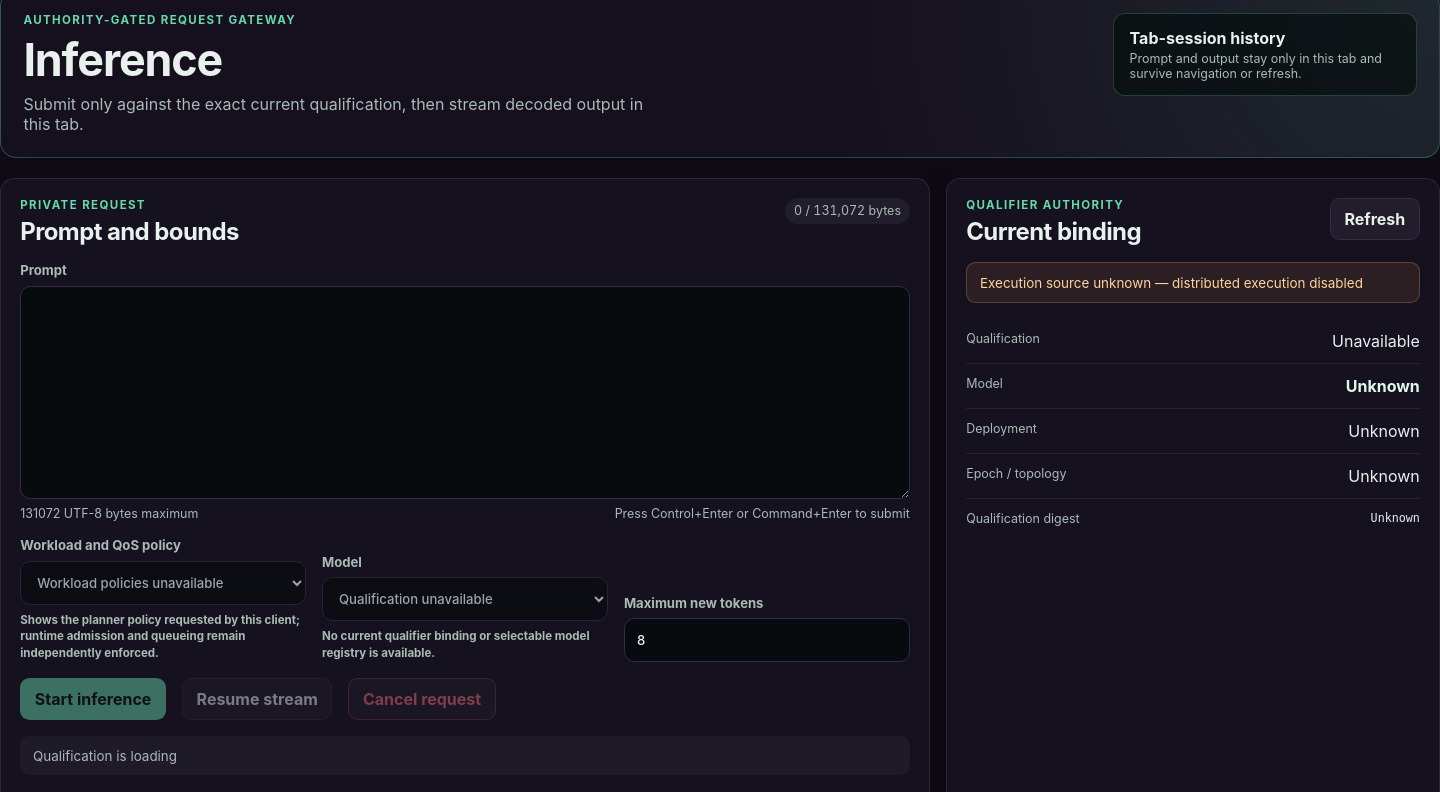
Test: InferenceWorkspace › provides bounded keyboard submission, an accessible stream, tab-session privacy, and terminal state
The width and height of the screenshot is (1440, 792).
In the text box labelled "Prompt": point(465, 392) x1=20 y1=286 x2=910 y2=499, type "private synthetic input"
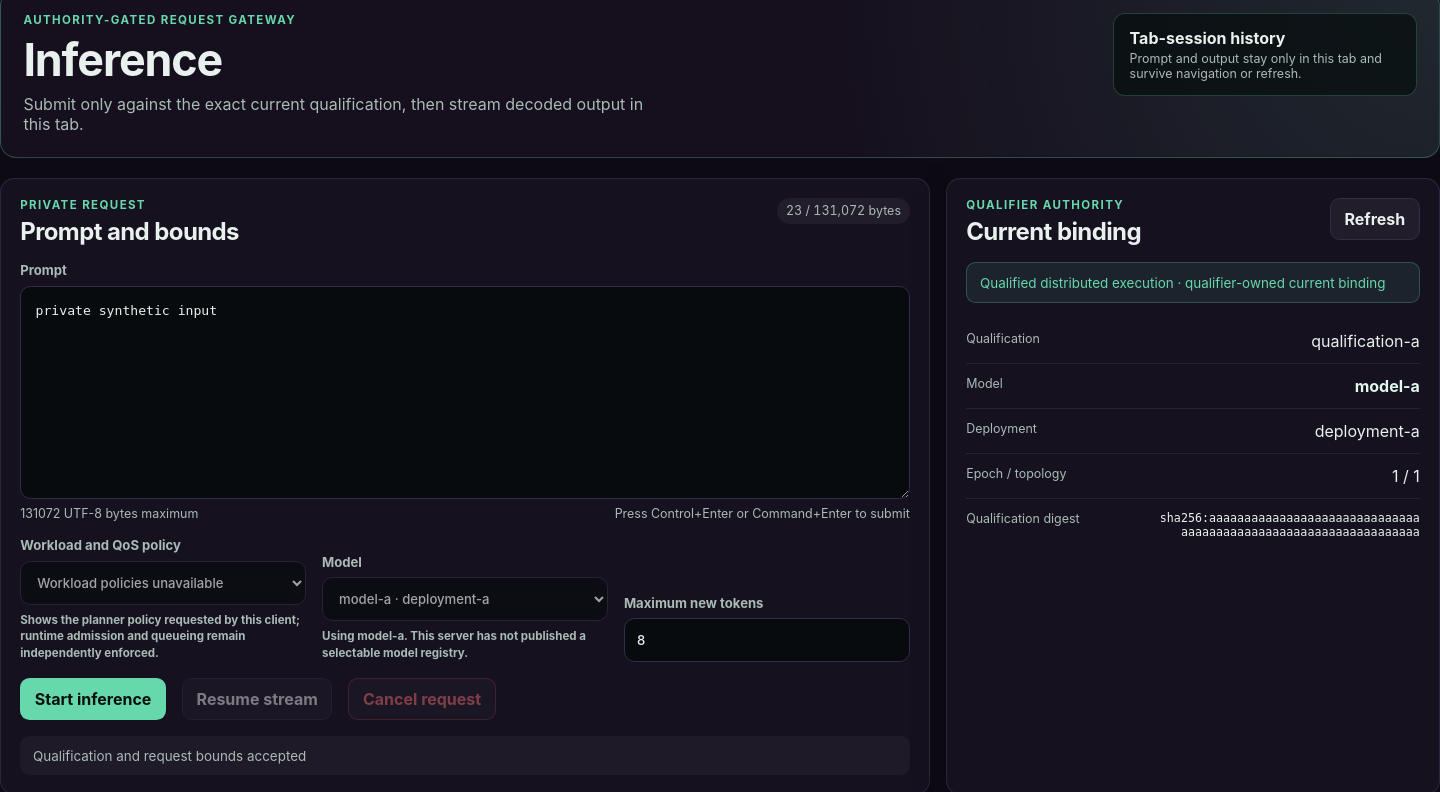
Now the button "Start inference" is enabled, box x1=20 y1=678 x2=166 y2=720
Press Enter in the text box labelled "Prompt", box x1=20 y1=286 x2=910 y2=499
(page scrolled)
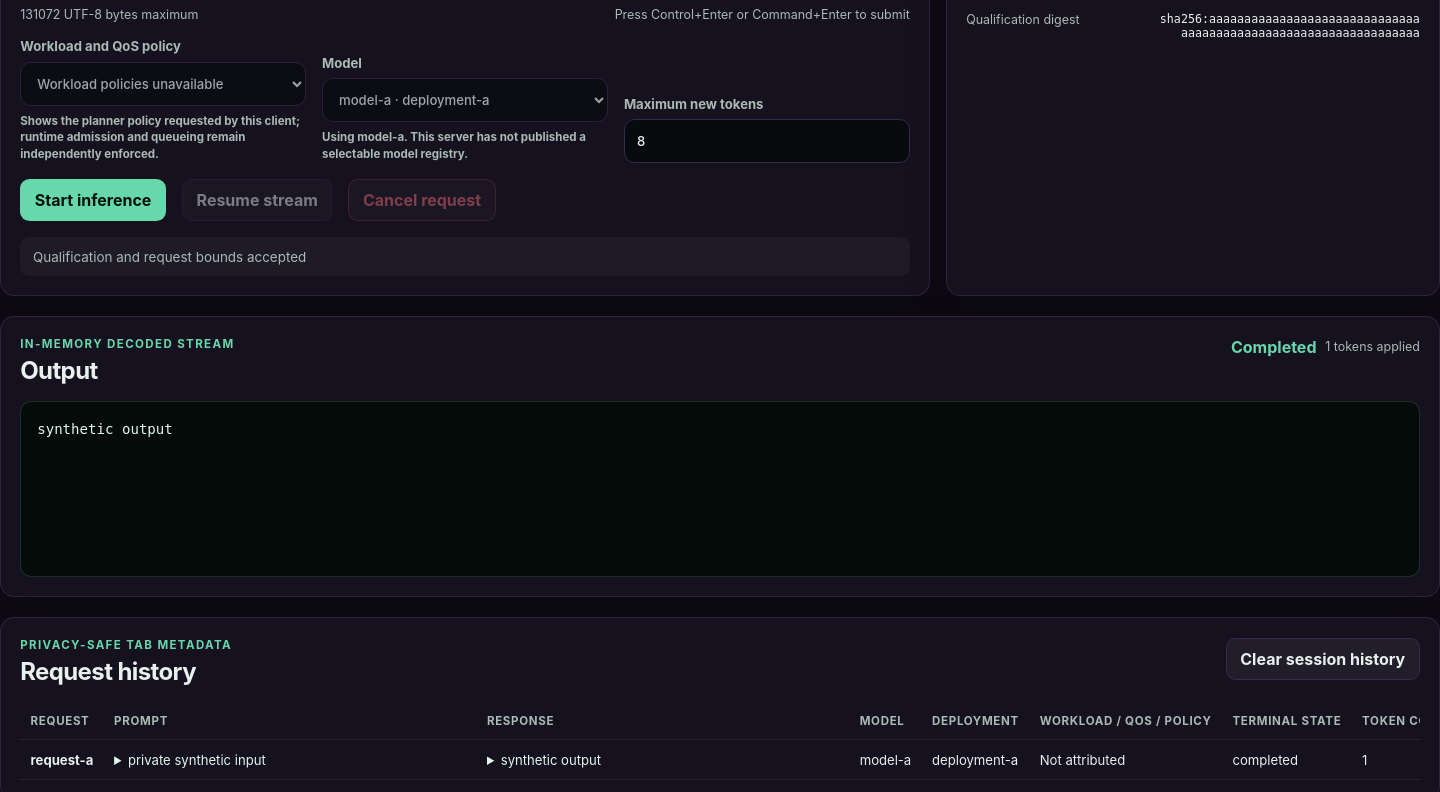
Now the message shows "Completed", box x1=1231 y1=337 x2=1316 y2=357
Now the text named "Decoded output" reads "synthetic output", box x1=37 y1=421 x2=173 y2=437
Now the heading "private synthetic input" is shown, box x1=128 y1=752 x2=266 y2=768
